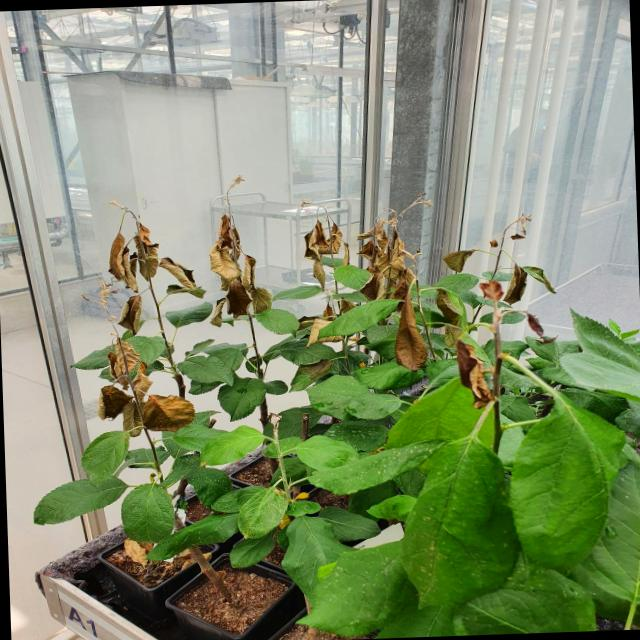-FireBlight-: (90, 203, 202, 438), (360, 214, 432, 372), (206, 213, 278, 326), (434, 284, 494, 401), (481, 258, 558, 342), (302, 212, 353, 297), (300, 297, 343, 344)
